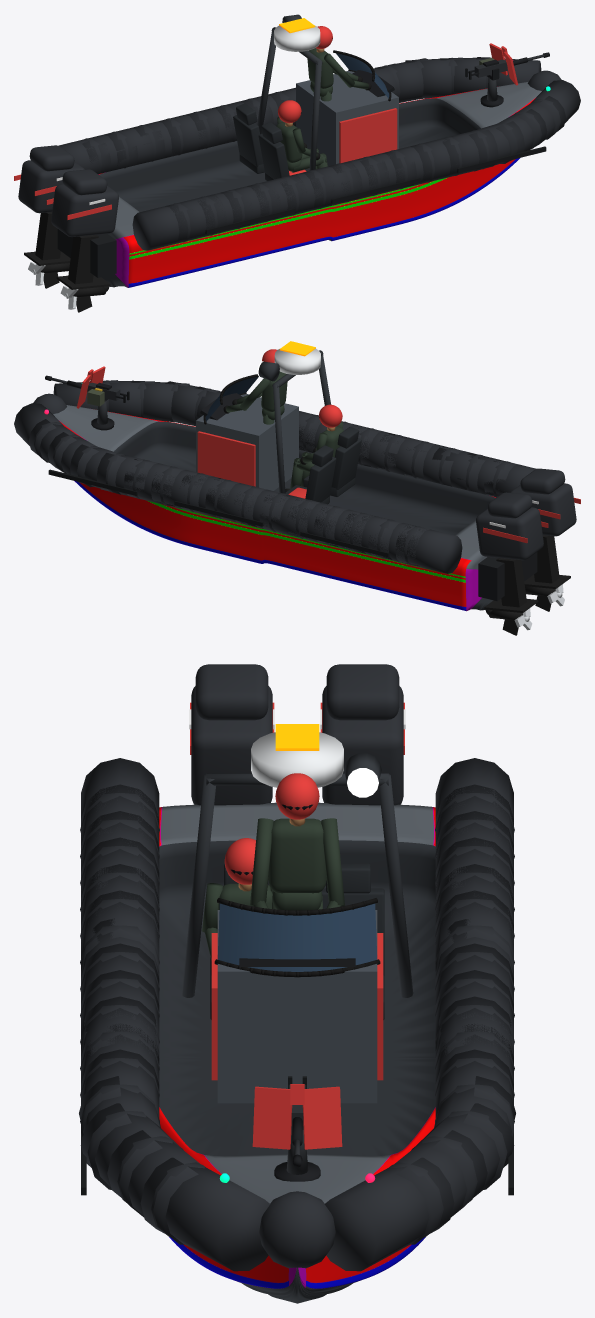
The model's file is Patrol.glb.
The picture shows the model from 3 angles, top to bottom: view 1: azimuth 30°, elevation 25°; view 2: azimuth 150°, elevation 25°; view 3: azimuth 270°, elevation 25°; orthographic projection. The views are drawn at different scales.
Visible parts, largest first — view 1: Patrol; view 2: Patrol; view 3: Patrol.
Part boxes in pixels (bbox=[...]): Patrol: bbox=[14, 14, 580, 312]; Patrol: bbox=[14, 341, 580, 635]; Patrol: bbox=[79, 664, 515, 1303].
Size of the model in its own units: 8.29 by 3.31 by 3.01.
32 materials, 1 textured.
